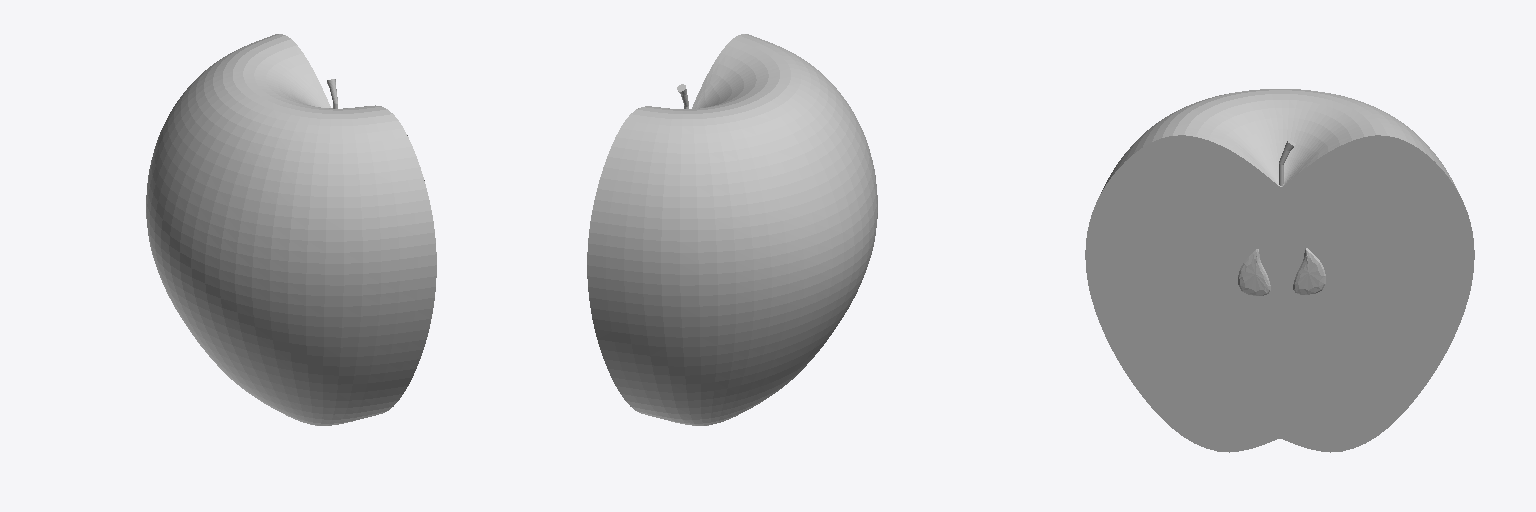
File: apple_half.obj
The picture shows the model from 3 angles: view 1: azimuth 30°, elevation 25°; view 2: azimuth 150°, elevation 25°; view 3: azimuth 270°, elevation 25°; orthographic projection.
Visible parts, largest first — view 1: Sphere; view 2: Sphere; view 3: Sphere.001, Sphere, Plane.002_Plane.007, Plane.001_Plane.005.
Part boxes in pixels (x1,y1,x2,y2): Sphere: (146, 34, 436, 425); Sphere: (587, 34, 877, 425); Sphere.001: (1085, 135, 1474, 452); Sphere: (1101, 89, 1463, 202); Plane.002_Plane.007: (1293, 248, 1325, 294); Plane.001_Plane.005: (1238, 249, 1270, 295).
Bounding box in the file's own units: 0.0406 × 0.0726 × 0.079.